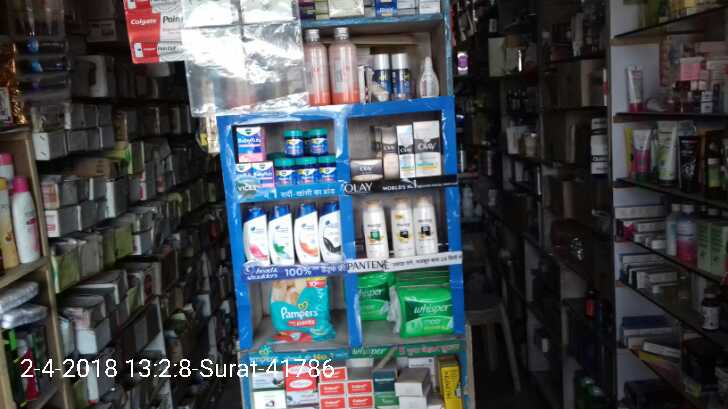vicks: (238, 125, 267, 160), (275, 157, 296, 192), (253, 163, 275, 192), (296, 157, 319, 184), (304, 128, 327, 155), (319, 154, 338, 184), (282, 130, 304, 155), (237, 163, 253, 189)
